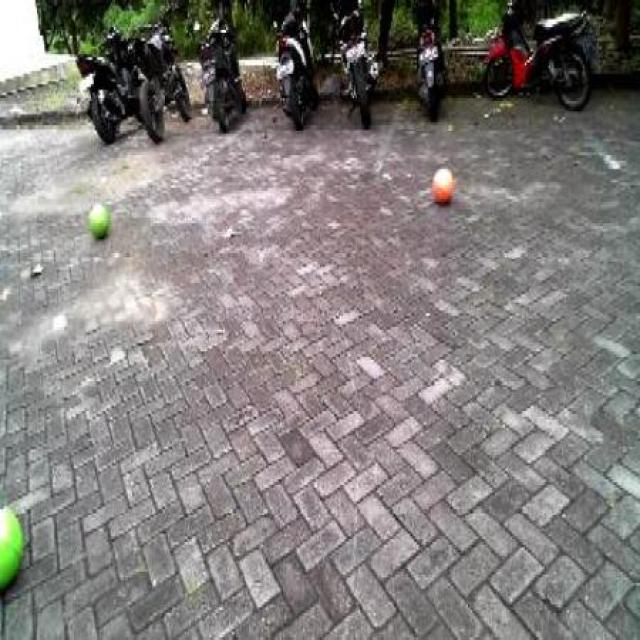buoy: (0, 488, 27, 606), (426, 158, 456, 210), (84, 194, 112, 238)
